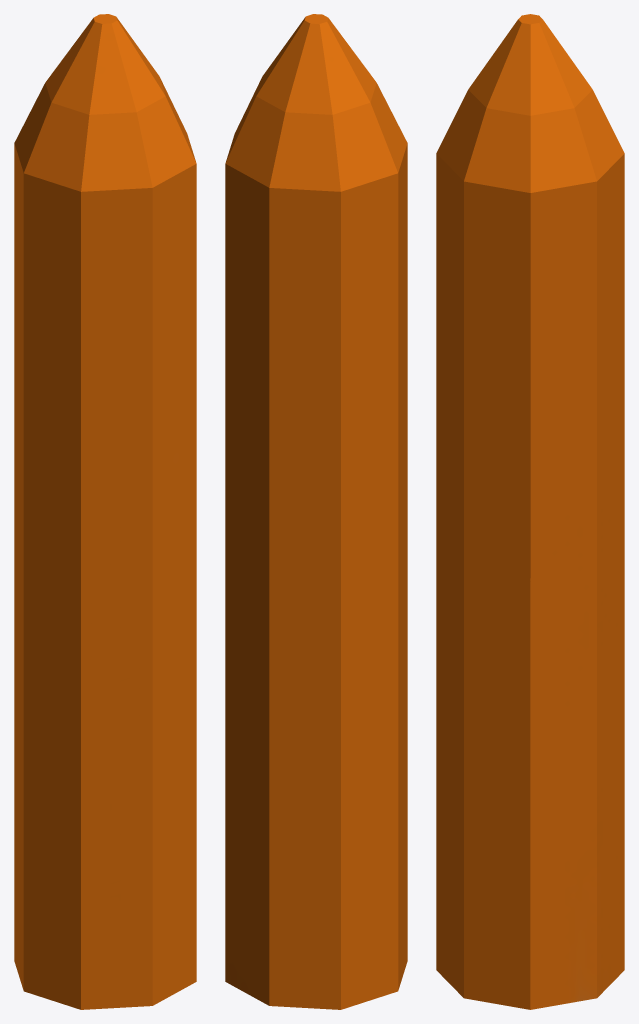
The model's file is Missile.fbx.
The picture shows the model from 3 angles, left to right: view 1: azimuth 30°, elevation 25°; view 2: azimuth 150°, elevation 25°; view 3: azimuth 270°, elevation 25°; orthographic projection.
Visible parts, largest first — view 1: Cylinder; view 2: Cylinder; view 3: Cylinder.
Part boxes in pixels (x1,y1,x2,y2): Cylinder: [14, 14, 196, 1009]; Cylinder: [225, 14, 407, 1009]; Cylinder: [436, 14, 624, 1009].
Size of the model in its own units: 47.67 by 265 by 47.67.
